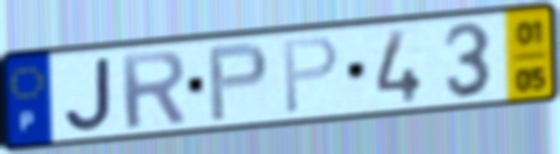3: (442, 18, 497, 102)
4: (373, 26, 427, 106)
J: (62, 55, 116, 134)
P: (205, 39, 272, 125), (280, 33, 341, 118)
R: (116, 47, 189, 132)
